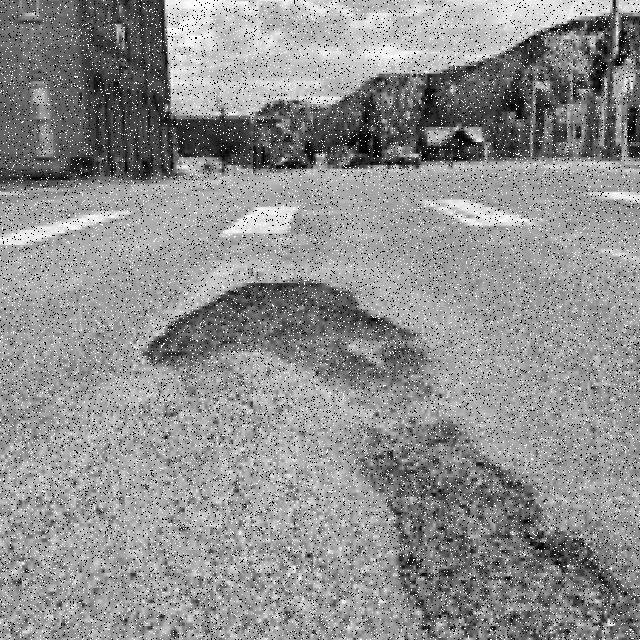pothole: (145, 279, 636, 640)
